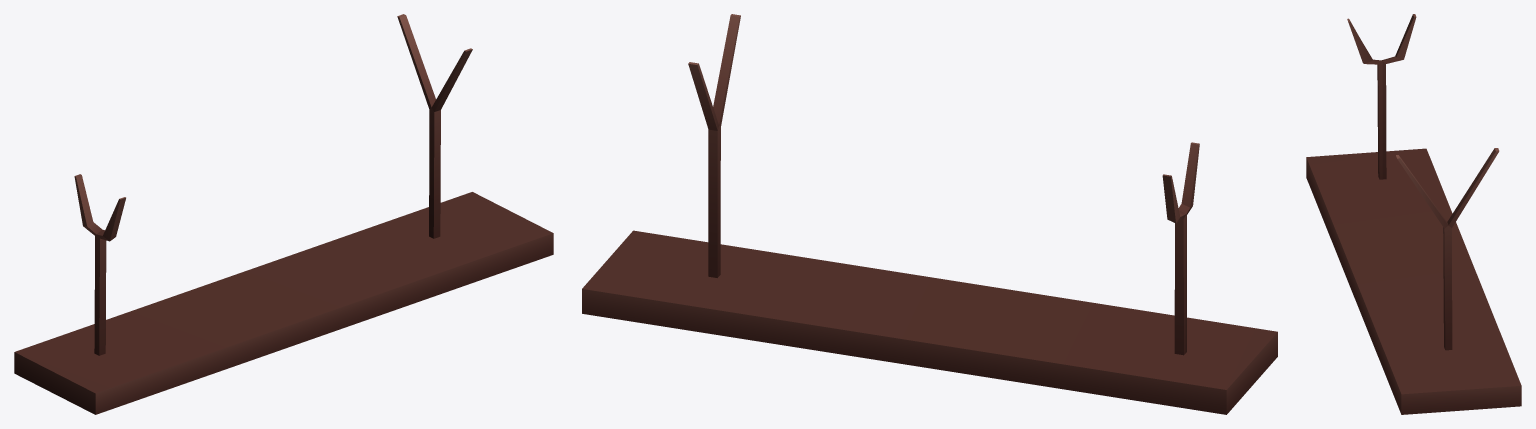
Rendered from mesh_tommy_gun_LOD1_fixed_normals.fbx.
The picture shows the model from 3 angles, left to right: view 1: azimuth 30°, elevation 25°; view 2: azimuth 150°, elevation 25°; view 3: azimuth 270°, elevation 25°; orthographic projection. The views are drawn at different scales.
Parts seen in each view (by area): view 1: stand; view 2: stand; view 3: stand.
Boxes of the visible parts, bbox=[...] form: stand: bbox=[14, 14, 553, 414]; stand: bbox=[582, 14, 1277, 414]; stand: bbox=[1306, 14, 1521, 414].
Size of what is drawn, in the model's own units: 197 by 81.52 by 73.1.
